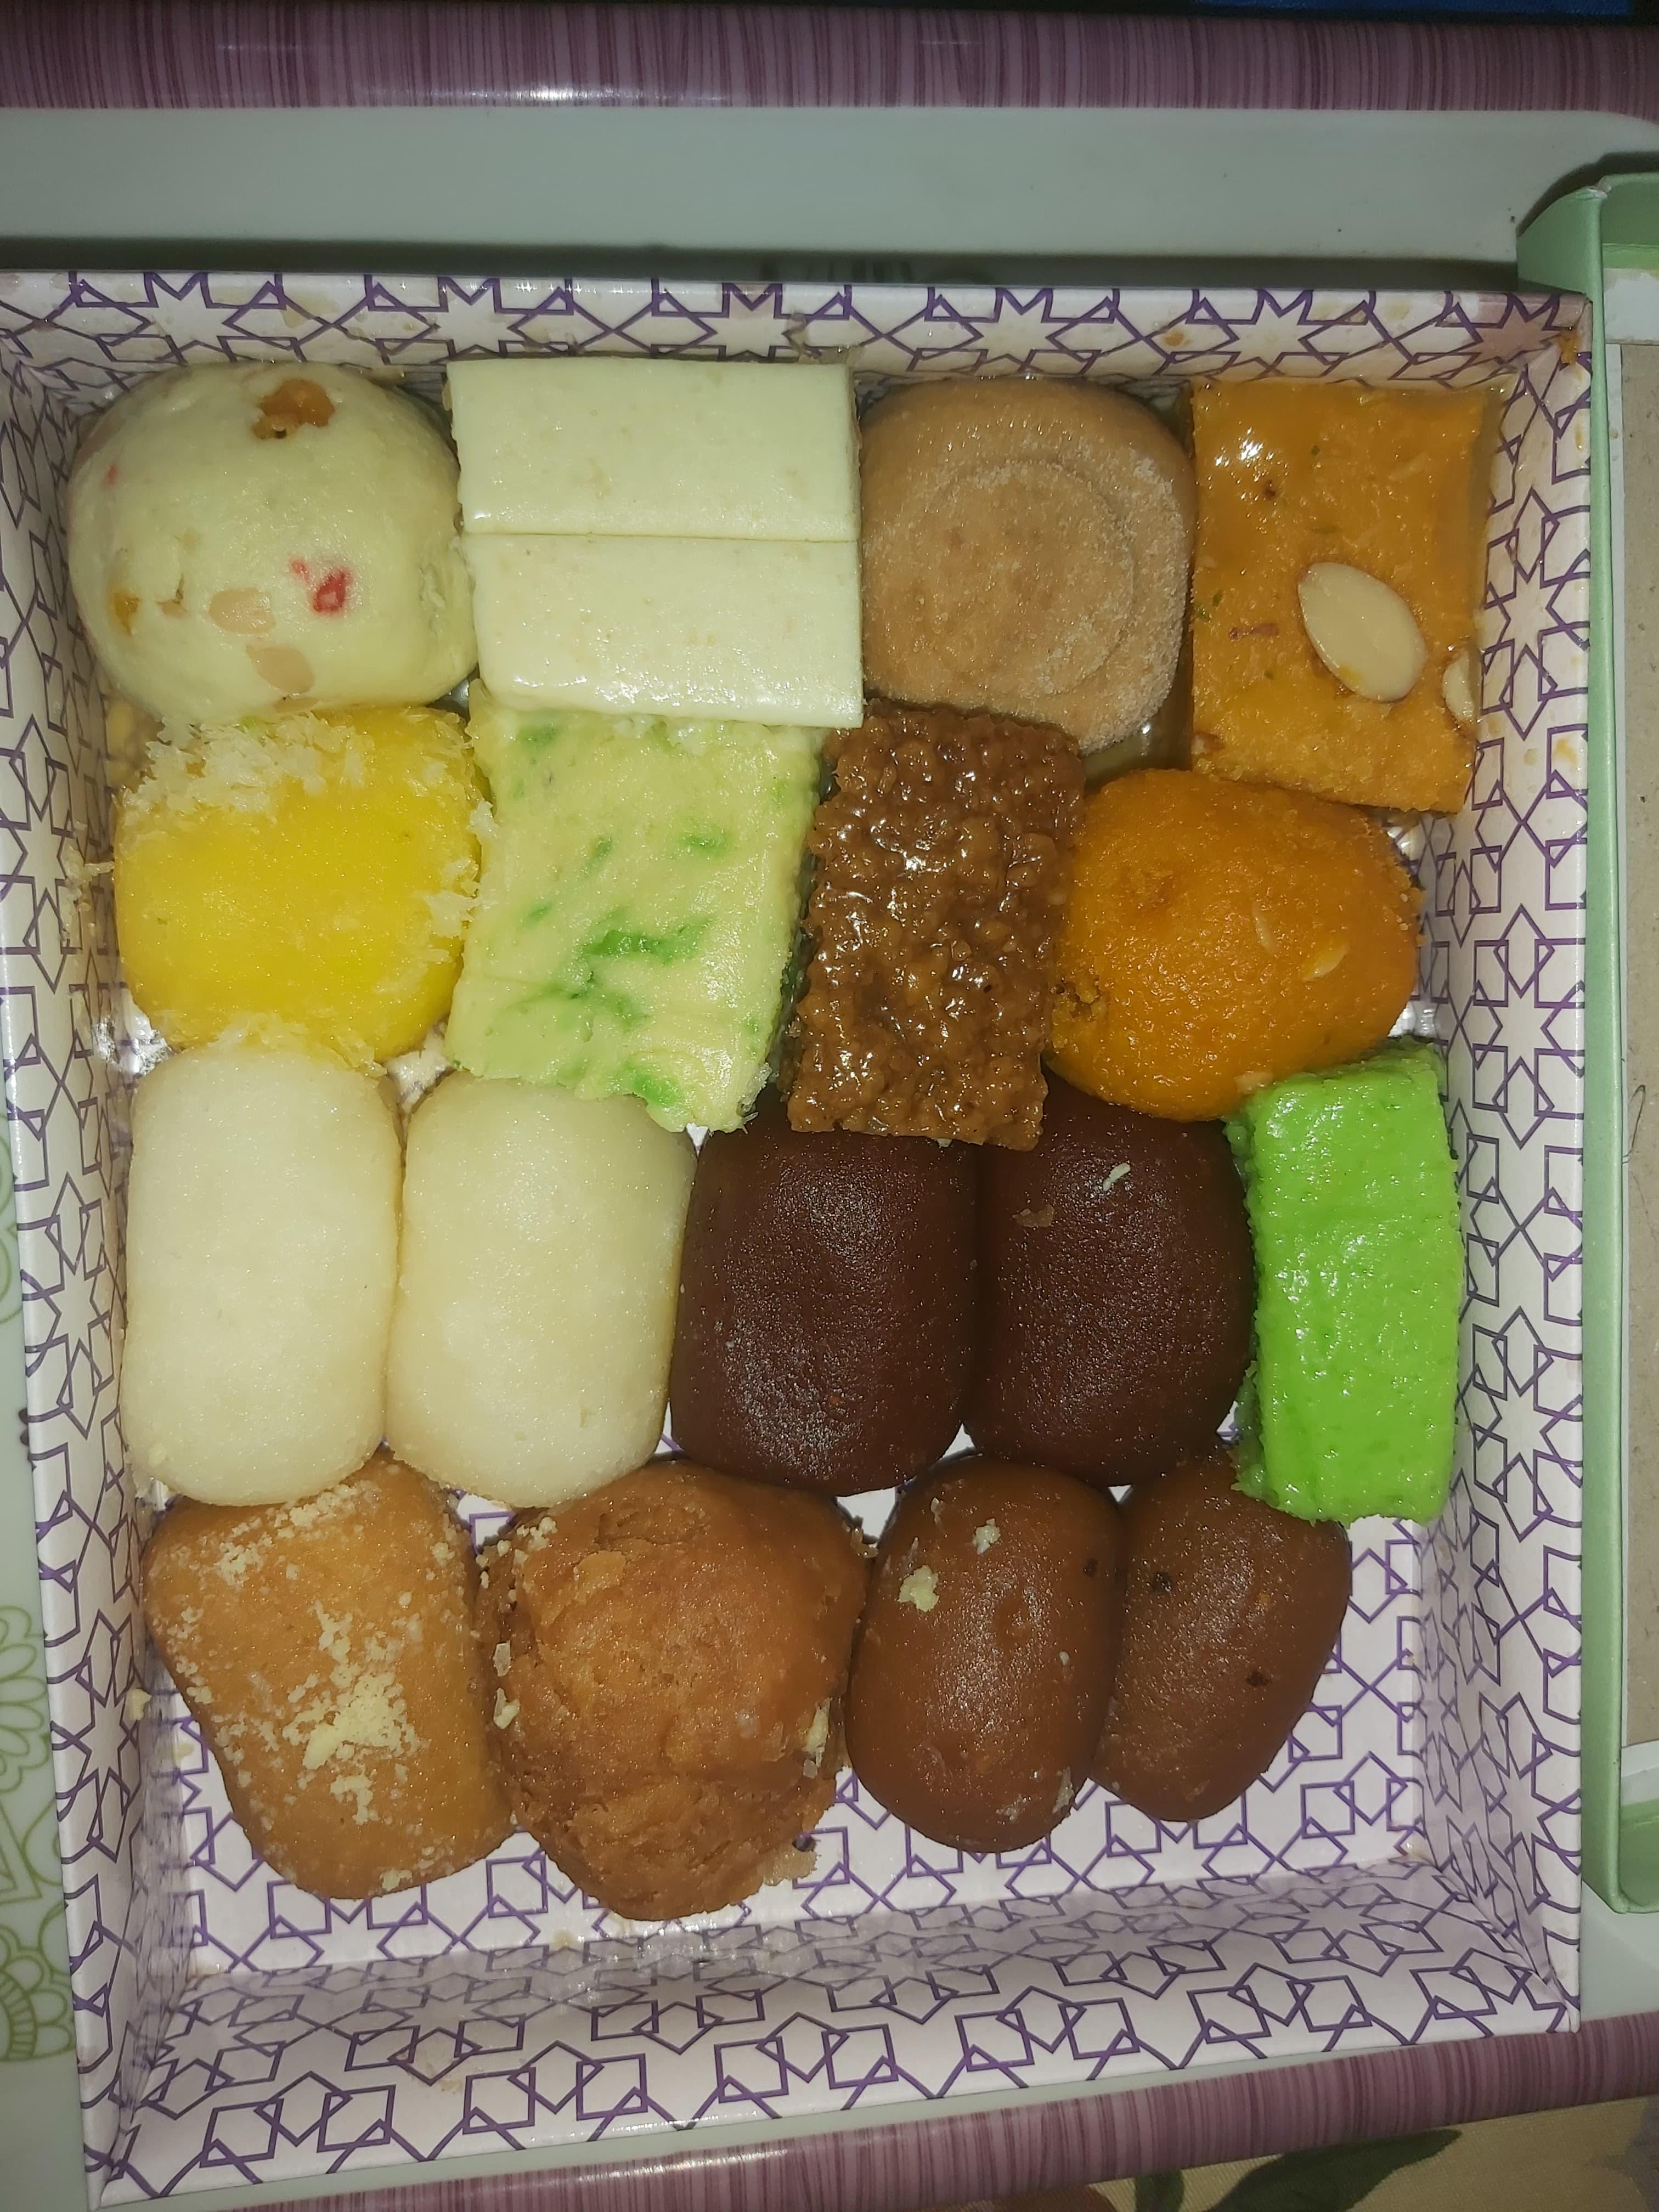non-mango: (68, 355, 1492, 1918)
